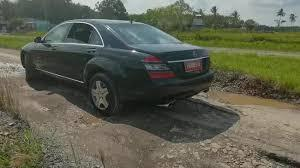Pothole: (196, 82, 300, 120), (74, 101, 121, 146), (233, 142, 300, 168), (66, 145, 112, 168)
